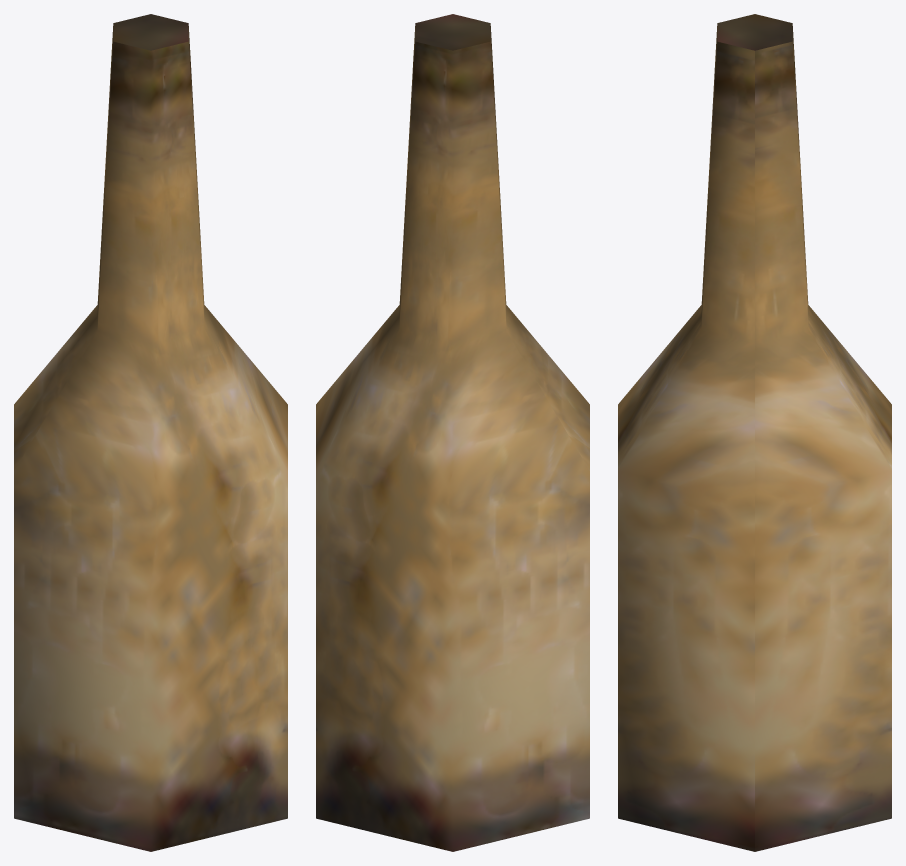
Rendered from glass_bottle.obj.
3 views of the same model, side by side, from view 1: azimuth 30°, elevation 25°; view 2: azimuth 150°, elevation 25°; view 3: azimuth 270°, elevation 25° (orthographic).
Parts seen in each view (by area): view 1: Cylinder01; view 2: Cylinder01; view 3: Cylinder01.
Boxes of the visible parts, x1,y1,x2,y2 form: Cylinder01: (14,14,287,851); Cylinder01: (316,14,589,851); Cylinder01: (618,14,891,851).
Bounding box in the file's own units: 18.17 × 47.75 × 15.73.
